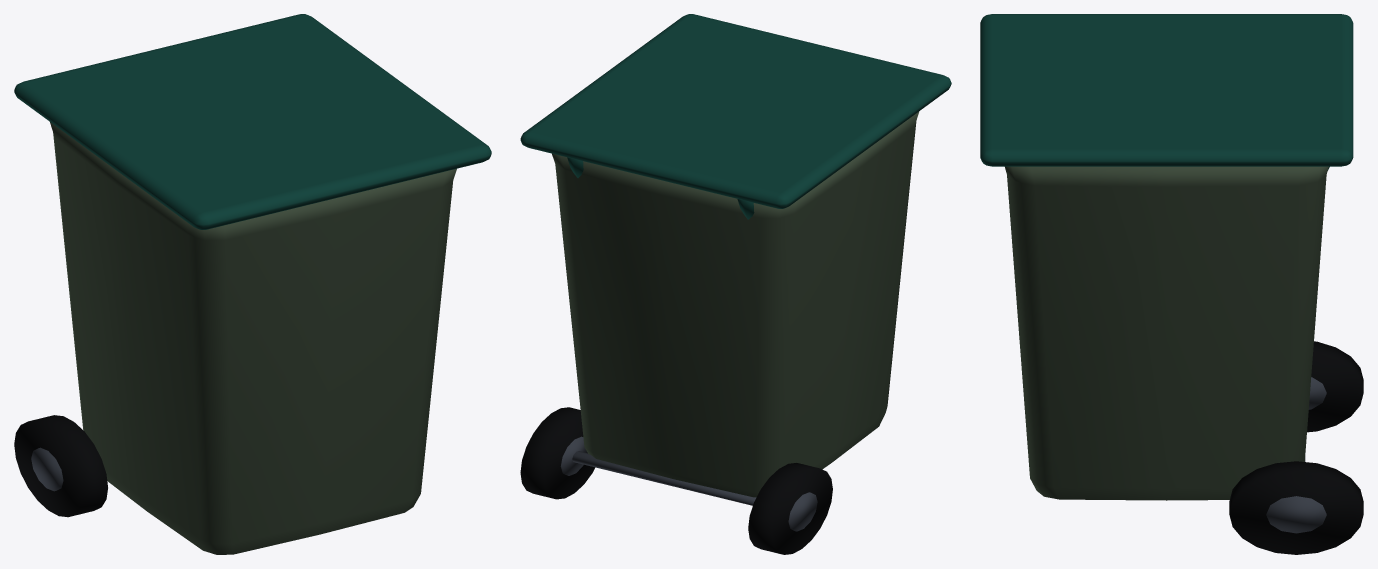
Rendered from bin-intact.glb.
3 renders of one model, left to right at view 1: azimuth 30°, elevation 25°; view 2: azimuth 150°, elevation 25°; view 3: azimuth 270°, elevation 25°, orthographic. The views are drawn at different scales.
Parts seen in each view (by area): view 1: bin-intact; view 2: bin-intact; view 3: bin-intact.
Part boxes in pixels (x1,y1,x2,y2): bin-intact: (14,14,491,554); bin-intact: (520,14,951,554); bin-intact: (980,14,1363,554).
Bounding box in the file's own units: 0.7575 × 0.999 × 0.8558.
1 material, 1 textured.
